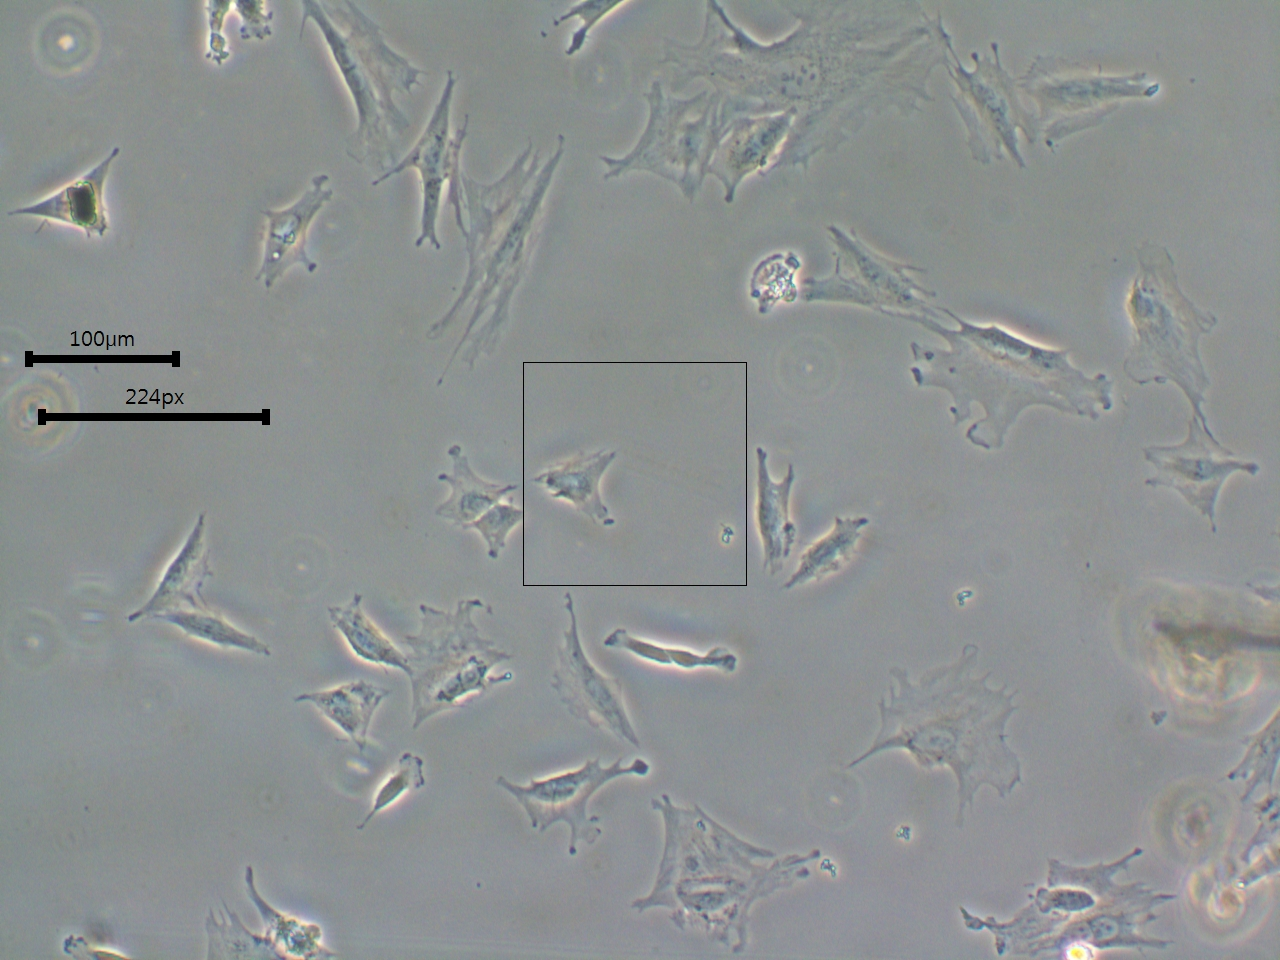dividing: (412, 589, 525, 747), (312, 587, 413, 670)
medium-polygonal: (374, 59, 457, 253)
medium-spread: (838, 643, 1082, 835), (909, 301, 1124, 483), (635, 790, 824, 955), (1112, 232, 1234, 414)
small-polygonal: (3, 126, 137, 263), (1142, 402, 1272, 544), (487, 752, 650, 855), (1021, 39, 1180, 143), (243, 161, 341, 305), (110, 504, 228, 621), (288, 673, 397, 753), (751, 439, 799, 575)
small-round: (737, 245, 802, 326)
